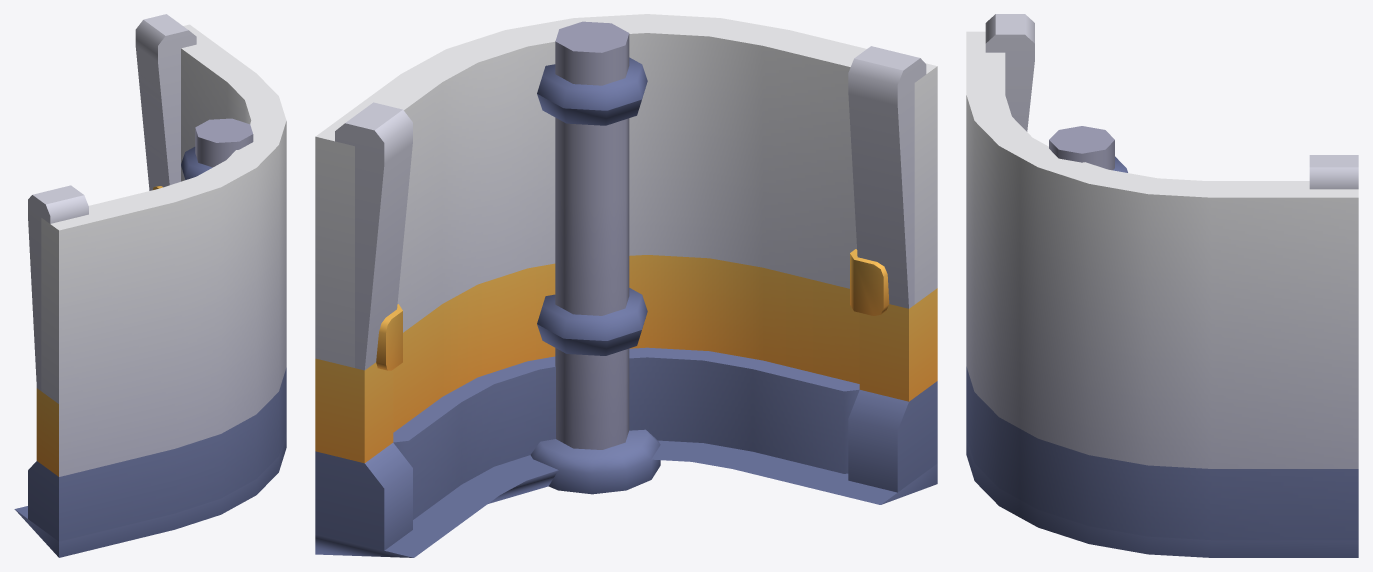
3 renders of one model, left to right at view 1: azimuth 30°, elevation 25°; view 2: azimuth 150°, elevation 25°; view 3: azimuth 270°, elevation 25°, orthographic. The views are drawn at different scales.
Parts seen in each view (by area): view 1: corridor-corner; view 2: corridor-corner; view 3: corridor-corner.
Part boxes in pixels (left/top/right/bottom): corridor-corner: left=14, top=14, right=286, bottom=557; corridor-corner: left=315, top=14, right=937, bottom=557; corridor-corner: left=966, top=14, right=1358, bottom=557.
Bounding box in the file's own units: 400 × 425 × 400.
